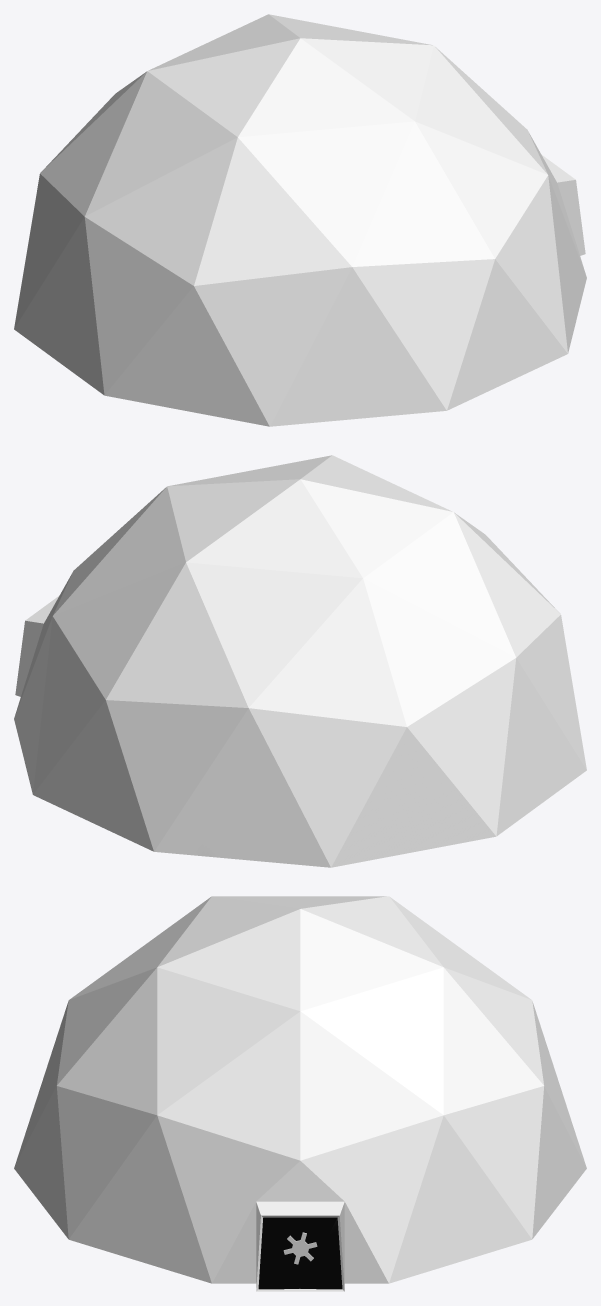
Rendered from hut.glb.
3 views of the same model, one above another, from view 1: azimuth 30°, elevation 25°; view 2: azimuth 150°, elevation 25°; view 3: azimuth 270°, elevation 25° (orthographic). The views are drawn at different scales.
Parts seen in each view (by area): view 1: Icosphere; view 2: Icosphere; view 3: Icosphere, Cylinder.
Boxes of the visible parts, <box> form: Icosphere: <box>14,14,586,426</box>; Icosphere: <box>14,455,586,867</box>; Icosphere: <box>14,896,586,1291</box>; Cylinder: <box>283,1232,317,1264</box>.
Bounding box in the file's own units: 9.93 × 5.14 × 10.
Materials: 1 (1 with a texture image).
